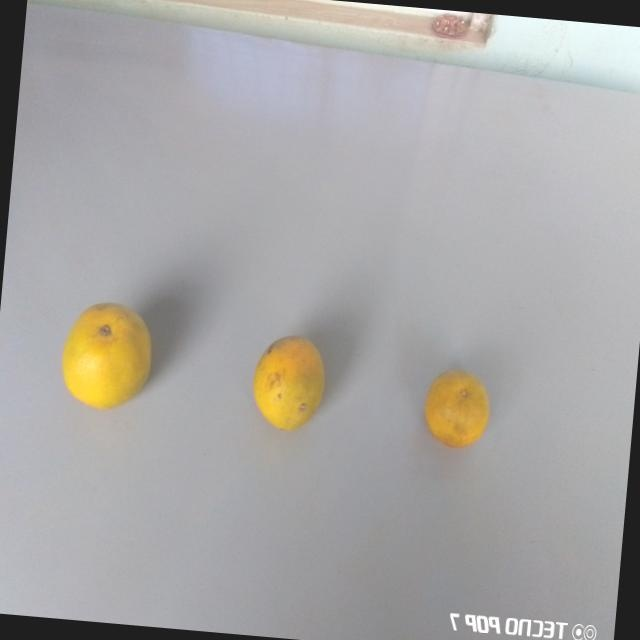agrume: (57, 296, 163, 412), (242, 317, 333, 443), (422, 352, 495, 457)
